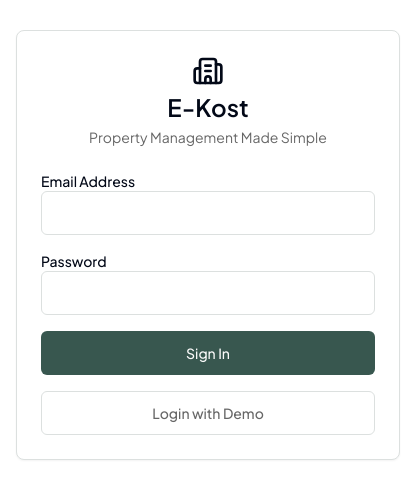
Test: LoginForm › bad cases › shows validation error when password is empty
In the field labelled "Email Address": coordinates (208, 213) [41,191,375,235], type "john@example.com"
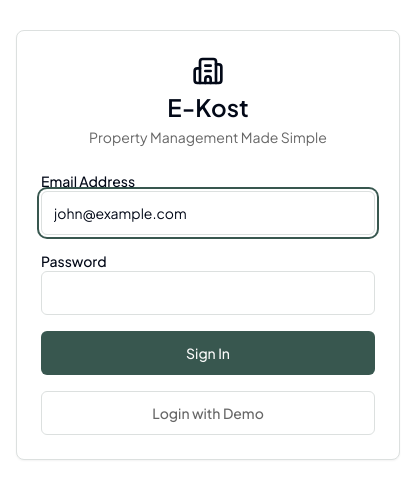
Click the button "Sign In": coordinates (208, 353) [41,331,375,375]
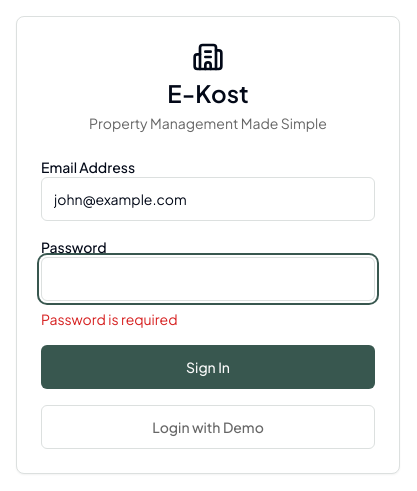
expect the text "Password is required" is shown: met, box [41,310,178,328]
